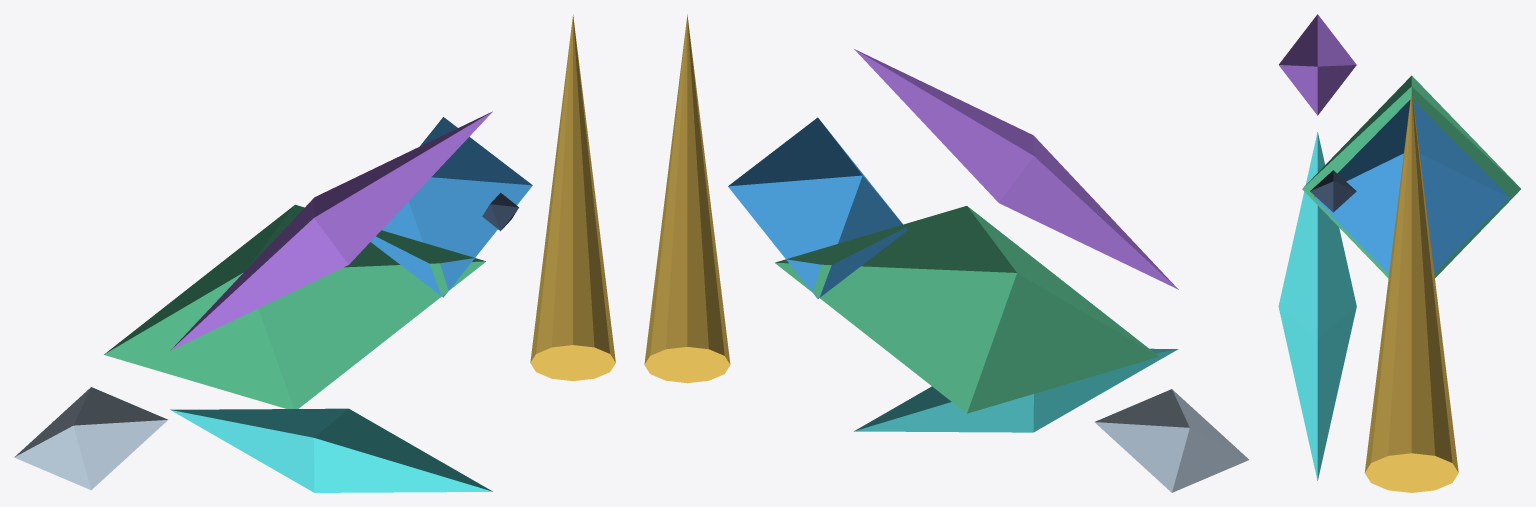
File: minglora_hummingbird.gltf
3 renders of one model, left to right at view 1: azimuth 30°, elevation 25°; view 2: azimuth 150°, elevation 25°; view 3: azimuth 270°, elevation 25°, orthographic. The views are drawn at different scales.
Parts seen in each view (by area): view 1: minglora_hummingbird_part_0, minglora_hummingbird_part_2, minglora_hummingbird_part_4, minglora_hummingbird_part_5, minglora_hummingbird_part_1, minglora_hummingbird_part_3, minglora_hummingbird_part_6; view 2: minglora_hummingbird_part_0, minglora_hummingbird_part_2, minglora_hummingbird_part_4, minglora_hummingbird_part_1, minglora_hummingbird_part_3, minglora_hummingbird_part_5; view 3: minglora_hummingbird_part_2, minglora_hummingbird_part_1, minglora_hummingbird_part_5, minglora_hummingbird_part_0, minglora_hummingbird_part_4, minglora_hummingbird_part_6.
Boxes of the visible parts, x1=… form: minglora_hummingbird_part_0: x1=104, y1=204, x2=485, y2=408; minglora_hummingbird_part_2: x1=530, y1=14, x2=615, y2=380; minglora_hummingbird_part_4: x1=170, y1=111, x2=492, y2=350; minglora_hummingbird_part_5: x1=170, y1=408, x2=492, y2=492; minglora_hummingbird_part_1: x1=371, y1=117, x2=532, y2=297; minglora_hummingbird_part_3: x1=14, y1=387, x2=167, y2=490; minglora_hummingbird_part_6: x1=482, y1=192, x2=518, y2=231; minglora_hummingbird_part_0: x1=775, y1=206, x2=1158, y2=413; minglora_hummingbird_part_2: x1=644, y1=14, x2=730, y2=383; minglora_hummingbird_part_4: x1=854, y1=49, x2=1178, y2=289; minglora_hummingbird_part_1: x1=728, y1=117, x2=907, y2=298; minglora_hummingbird_part_3: x1=1094, y1=389, x2=1248, y2=492; minglora_hummingbird_part_5: x1=854, y1=348, x2=1178, y2=432; minglora_hummingbird_part_2: x1=1364, y1=90, x2=1458, y2=492; minglora_hummingbird_part_1: x1=1314, y1=99, x2=1509, y2=273; minglora_hummingbird_part_5: x1=1278, y1=132, x2=1356, y2=480; minglora_hummingbird_part_0: x1=1302, y1=75, x2=1520, y2=278; minglora_hummingbird_part_4: x1=1279, y1=14, x2=1356, y2=115; minglora_hummingbird_part_6: x1=1310, y1=170, x2=1356, y2=212.
Bounding box in the file's own units: 1.93 × 1.29 × 0.62.
